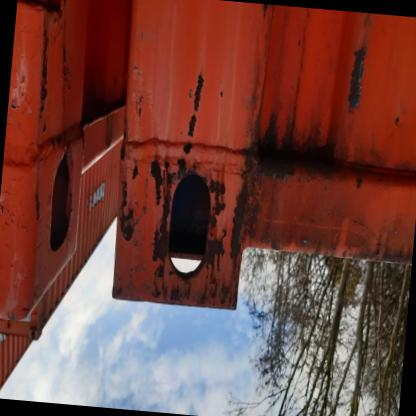CornerCasting: (104, 144, 258, 316), (0, 115, 90, 334)
